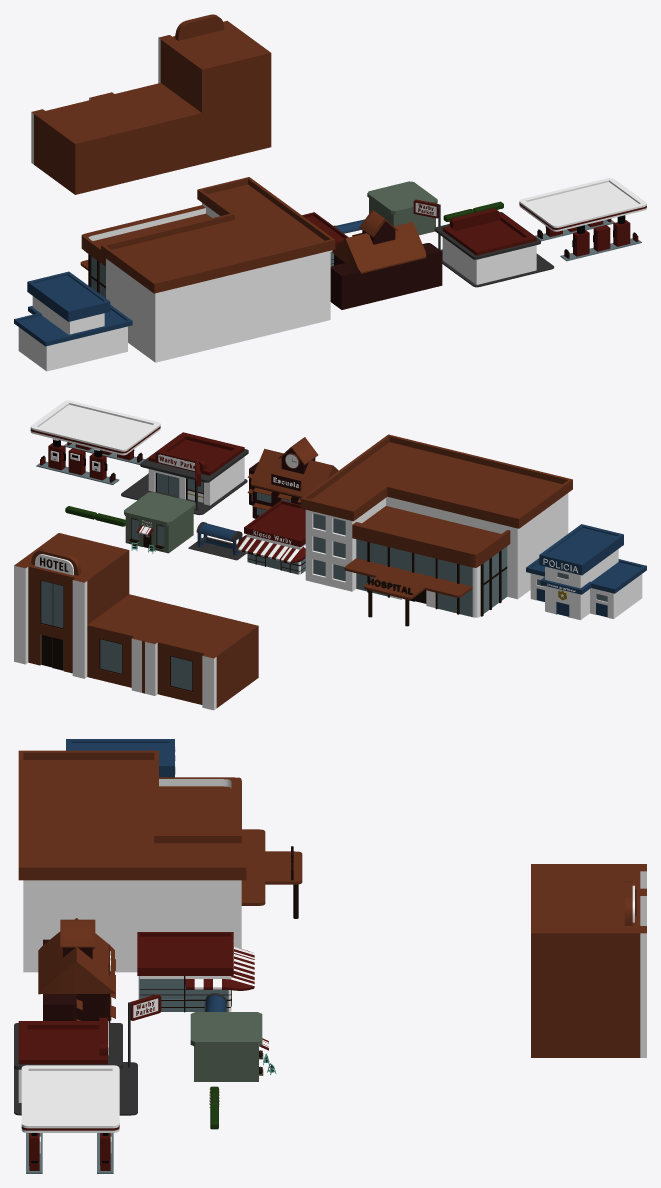
Rendered from edificios.fbx.
3 renders of one model, top to bottom at view 1: azimuth 30°, elevation 25°; view 2: azimuth 150°, elevation 25°; view 3: azimuth 270°, elevation 25°, orthographic. The views are drawn at different scales.
Parts seen in each view (by area): view 1: Box002, Box076, Box001, Box004, Box050, Box048, Box055, Box005, Box049, Box003; view 2: Box002, Box076, Box001, Box050, Box048, Box003, Box055, Box004, Box049, Box005, Cylinder006, Box054 (+1 smaller); view 3: Box002, Box076, Box003, Box048, Box004, Box050, Box055, Box001, Box049, Box005, Box052.
Boxes of the visible parts, <box> form: Box002: <box>80,177,335,362</box>; Box076: <box>31,14,271,194</box>; Box001: <box>14,271,132,371</box>; Box004: <box>330,222,442,309</box>; Box050: <box>434,208,540,284</box>; Box048: <box>519,178,646,231</box>; Box055: <box>367,181,437,235</box>; Box005: <box>359,209,398,244</box>; Box049: <box>440,249,554,287</box>; Box003: <box>302,212,348,266</box>; Box002: <box>300,434,572,617</box>; Box076: <box>14,533,258,710</box>; Box001: <box>526,524,646,620</box>; Box050: <box>140,432,248,505</box>; Box048: <box>30,400,160,455</box>; Box003: <box>237,500,305,574</box>; Box055: <box>124,492,195,553</box>; Box004: <box>247,448,338,518</box>; Box049: <box>121,473,247,515</box>; Box005: <box>278,437,318,474</box>; Cylinder006: <box>196,522,242,542</box>; Box054: <box>188,538,246,560</box>; Box002: <box>18,750,302,972</box>; Box076: <box>531,864,646,1057</box>; Box003: <box>137,932,254,1012</box>; Box048: <box>21,1065,119,1132</box>; Box004: <box>38,918,115,1022</box>; Box050: <box>14,1017,122,1102</box>; Box055: <box>190,1012,268,1081</box>; Box001: <box>66,739,174,777</box>; Box049: <box>14,1062,137,1115</box>; Box005: <box>60,919,95,959</box>; Box052: <box>130,994,161,1020</box>.
Size of the model in its own units: 138 by 24.86 by 97.25.
